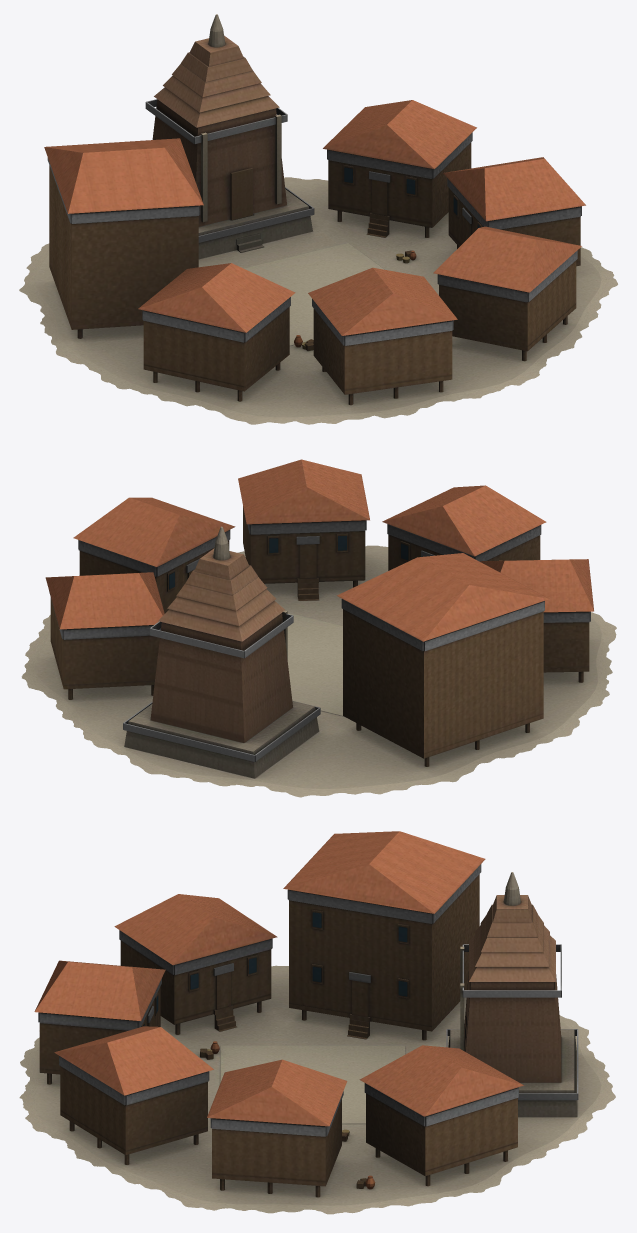
Rendered from classical-town-small-a-monsoon.glb.
3 views of the same model, one above another, from view 1: azimuth 30°, elevation 25°; view 2: azimuth 150°, elevation 25°; view 3: azimuth 270°, elevation 25° (orthographic).
Parts seen in each view (by area): view 1: LOD0; view 2: LOD0; view 3: LOD0.
Boxes of the visible parts, x1,y1,x2,y2 form: LOD0: [19, 14, 617, 424]; LOD0: [21, 459, 616, 797]; LOD0: [19, 831, 615, 1214].
Size of what is drawn, in the model's own units: 3.95 by 1.56 by 3.96.
3 materials, 3 textured.
